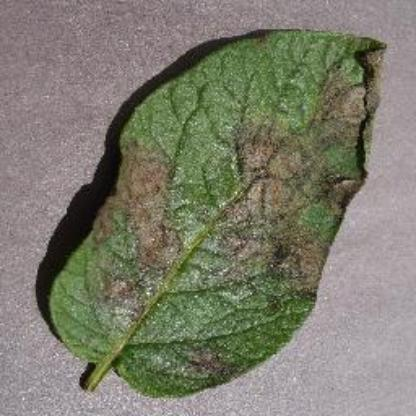Late-Blight: (37, 17, 387, 403)
